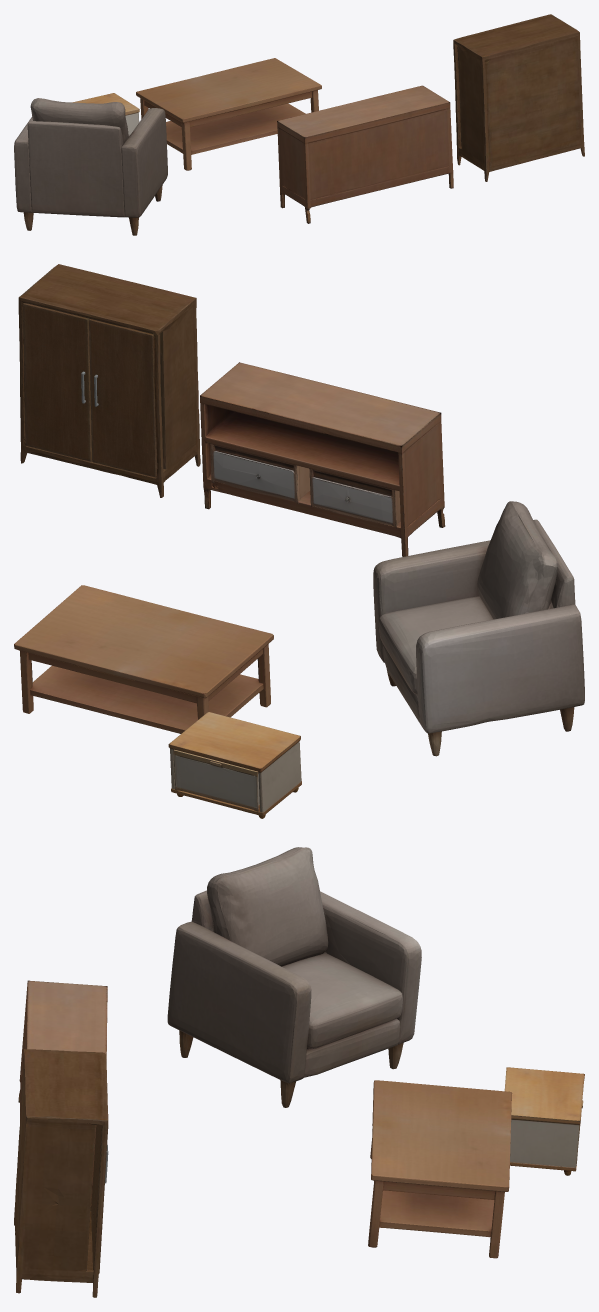
The model's file is figure6-7.glb.
3 renders of one model, top to bottom at view 1: azimuth 30°, elevation 25°; view 2: azimuth 150°, elevation 25°; view 3: azimuth 270°, elevation 25°, orthographic. The views are drawn at different scales.
Visible parts, largest first — view 1: obj_0_part_0, obj_4_part_0, obj_1_part_0, obj_3_part_0, obj_2_part_0, obj_0_part_2; view 2: obj_4_part_0, obj_3_part_0, obj_1_part_0, obj_0_part_0, obj_0_part_1, obj_0_part_2, obj_2_part_0, obj_1_part_2, obj_2_part_1, obj_1_part_1; view 3: obj_4_part_0, obj_3_part_0, obj_0_part_0, obj_2_part_0, obj_1_part_0, obj_0_part_1.
Boxes of the visible parts, bbox=[...] form: obj_0_part_0: bbox=[453, 14, 584, 181]; obj_4_part_0: bbox=[14, 98, 167, 235]; obj_1_part_0: bbox=[277, 85, 453, 223]; obj_3_part_0: bbox=[136, 58, 321, 170]; obj_2_part_0: bbox=[72, 93, 139, 134]; obj_0_part_2: bbox=[456, 45, 461, 147]; obj_4_part_0: bbox=[373, 501, 584, 756]; obj_3_part_0: bbox=[14, 585, 273, 733]; obj_1_part_0: bbox=[200, 362, 445, 556]; obj_0_part_0: bbox=[18, 264, 200, 497]; obj_0_part_1: bbox=[21, 303, 91, 462]; obj_0_part_2: bbox=[89, 319, 158, 478]; obj_2_part_0: bbox=[168, 712, 301, 818]; obj_1_part_2: bbox=[210, 444, 310, 503]; obj_2_part_1: bbox=[173, 749, 259, 811]; obj_1_part_1: bbox=[309, 468, 400, 528]; obj_4_part_0: bbox=[167, 847, 421, 1107]; obj_3_part_0: bbox=[368, 1080, 512, 1258]; obj_0_part_0: bbox=[14, 1049, 107, 1297]; obj_2_part_0: bbox=[504, 1067, 584, 1175]; obj_1_part_0: bbox=[18, 980, 107, 1204]; obj_0_part_1: bbox=[90, 1093, 108, 1273].
Bounding box in the file's own units: 1.47 × 0.5239 × 1.07.
10 materials, 10 textured.
